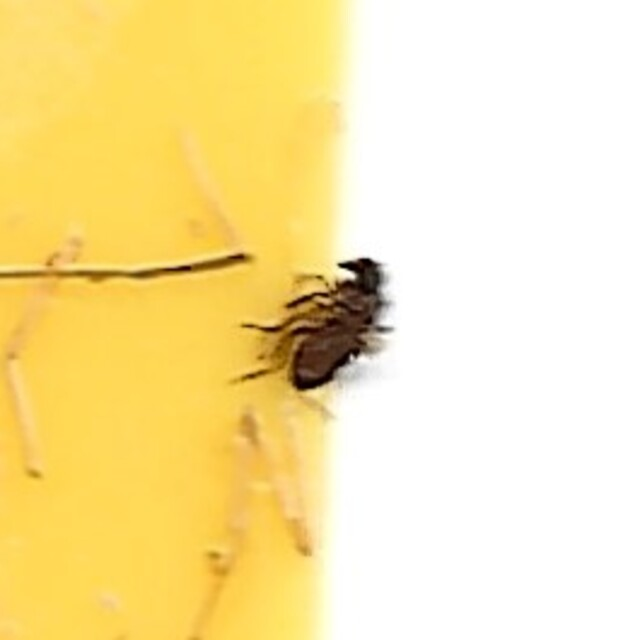Brachycera: (242, 246, 398, 394)
